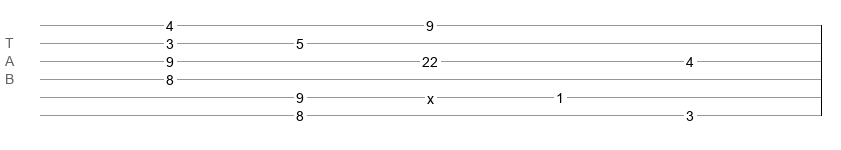1: (556, 90, 564, 100)
22: (422, 54, 438, 64)
3: (166, 36, 174, 46), (686, 108, 694, 118)
4: (166, 18, 174, 28), (686, 54, 694, 64)
5: (296, 36, 304, 46)
8: (166, 72, 174, 82), (296, 108, 304, 118)
9: (166, 54, 174, 64), (296, 90, 304, 100), (426, 18, 434, 28)
x: (427, 91, 434, 99)
